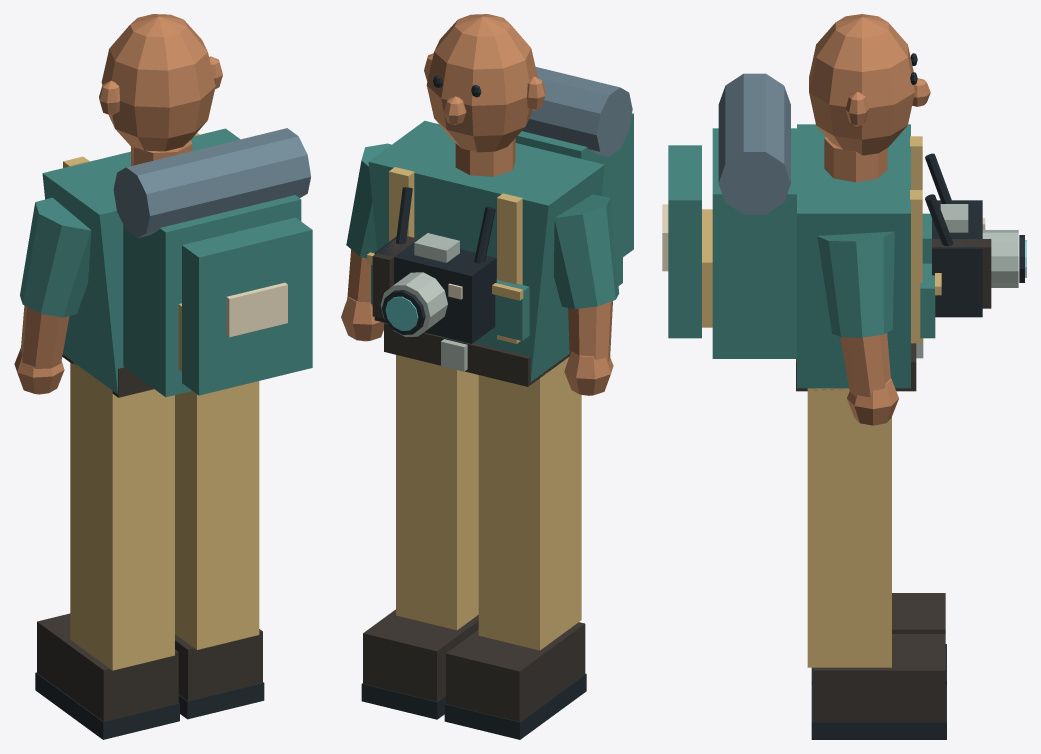
The model's file is researcher-forest-v3.glb.
3 renders of one model, left to right at view 1: azimuth 30°, elevation 25°; view 2: azimuth 150°, elevation 25°; view 3: azimuth 270°, elevation 25°, orthographic.
Visible parts, largest first — view 1: LegL, Body, LegR, ForestPockets, Head, ArmL; view 2: LegL, Body, LegR, Head, Camera, ArmL, ArmR, ForestPockets; view 3: Body, LegR, Head, ArmR, ForestPockets, Camera, LegL.
Part boxes in pixels (<box>): LegL: <box>35,362,179,739</box>; Body: <box>42,128,310,397</box>; LegR: <box>175,381,264,719</box>; ForestPockets: <box>182,217,312,395</box>; Head: <box>99,14,222,165</box>; ArmL: <box>14,197,91,394</box>; LegL: <box>444,357,586,739</box>; Body: <box>368,67,632,386</box>; LegR: <box>361,355,478,719</box>; Head: <box>424,14,545,176</box>; Camera: <box>372,233,496,343</box>; ArmL: <box>553,194,619,395</box>; ArmR: <box>341,143,391,341</box>; ForestPockets: <box>367,113,633,340</box>; Body: <box>702,73,953,391</box>; LegR: <box>807,388,946,739</box>; Head: <box>809,14,930,182</box>; ArmR: <box>817,231,898,425</box>; ForestPockets: <box>662,145,941,338</box>; Camera: <box>932,200,1026,317</box>; LegL: <box>811,593,946,684</box>.
Size of the model in its own units: 0.742 by 1.79 by 0.863.
